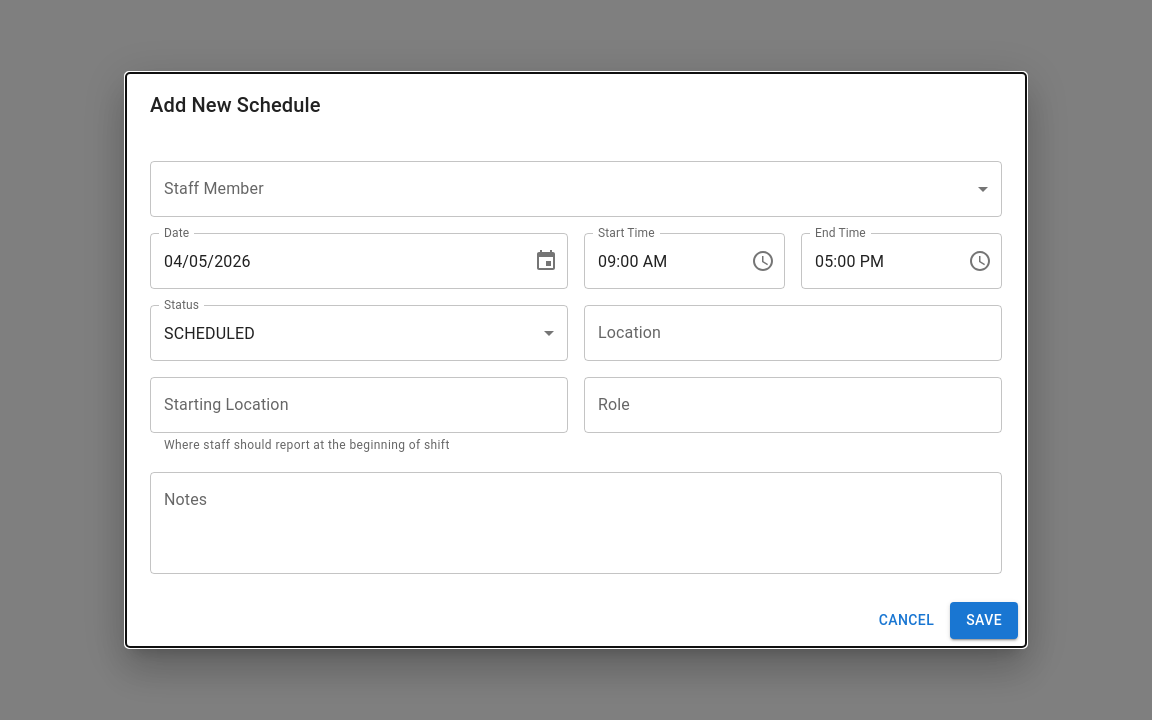
it: StaffScheduleForm › Form Validation › should require staff member selection
Step 1. Click the button "Save" → (984, 620), box [950,602,1018,639]
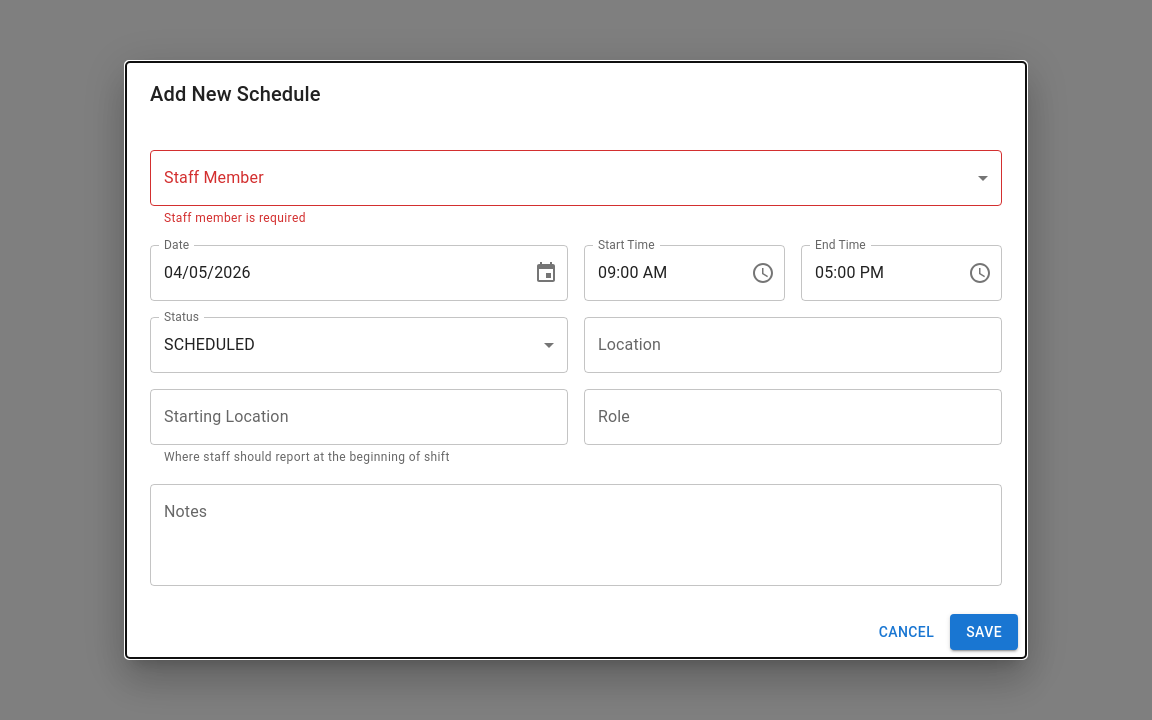
Expected: the text "Staff member is required" is shown, [164,211,306,225]
